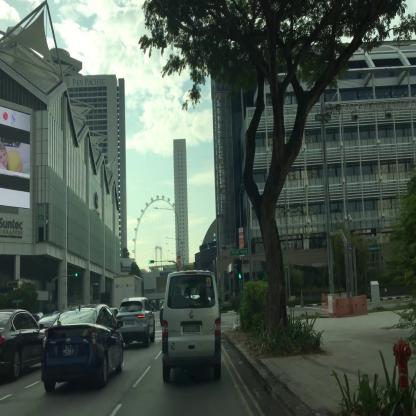green_traffic_light: (237, 260, 242, 278), (148, 260, 154, 263)
